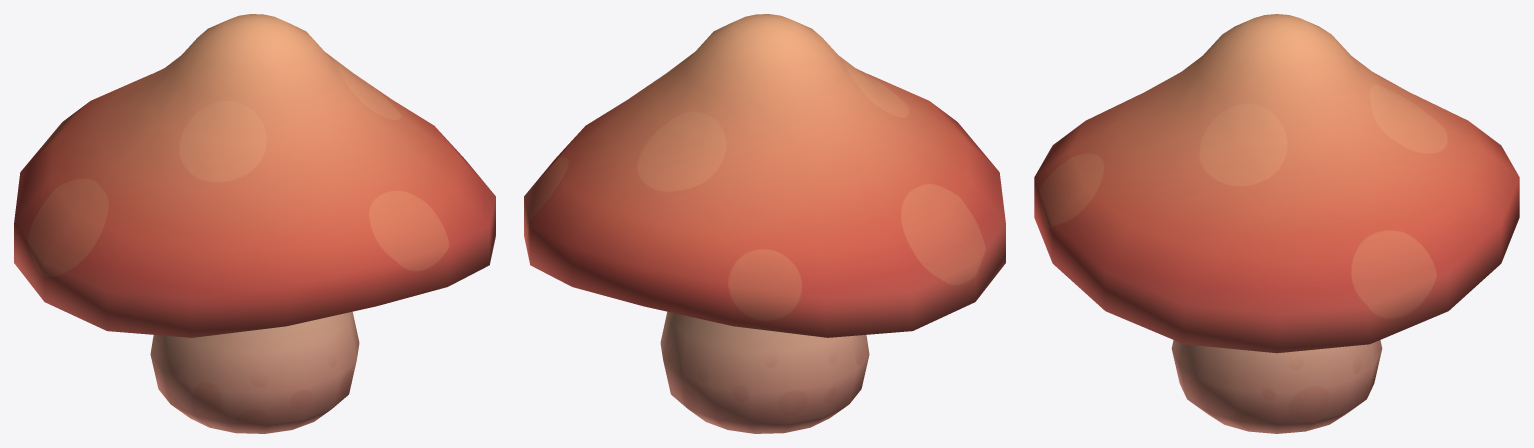
File: Mushroom.FBX
The picture shows the model from 3 angles, left to right: view 1: azimuth 30°, elevation 25°; view 2: azimuth 150°, elevation 25°; view 3: azimuth 270°, elevation 25°; orthographic projection.
Parts seen in each view (by area): view 1: Sphere002; view 2: Sphere002; view 3: Sphere002.
Part boxes in pixels (bbox=[...]): Sphere002: bbox=[14, 14, 495, 433]; Sphere002: bbox=[524, 14, 1005, 433]; Sphere002: bbox=[1034, 14, 1519, 433].
Bounding box in the file's own units: 90.5 × 79.99 × 90.5.
Materials: 1 (1 with a texture image).
